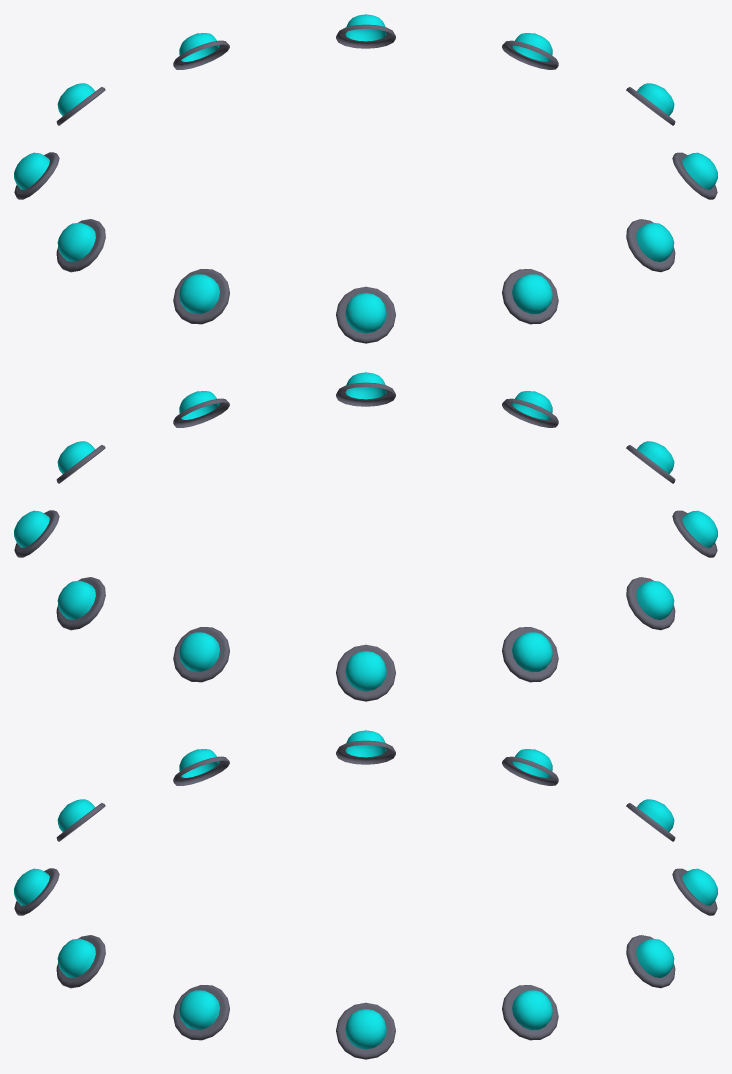
The model's file is StageDecorations.fbx.
3 views of the same model, one above another, from view 1: azimuth 30°, elevation 25°; view 2: azimuth 150°, elevation 25°; view 3: azimuth 270°, elevation 25° (orthographic).
Visible parts, largest first — view 1: Stage_LightIndicators; view 2: Stage_LightIndicators; view 3: Stage_LightIndicators.
Part boxes in pixels (<box>): Stage_LightIndicators: <box>14,14,717,343</box>; Stage_LightIndicators: <box>14,372,717,701</box>; Stage_LightIndicators: <box>14,730,717,1059</box>.
Bounding box in the file's own units: 845 × 54.45 × 845.
